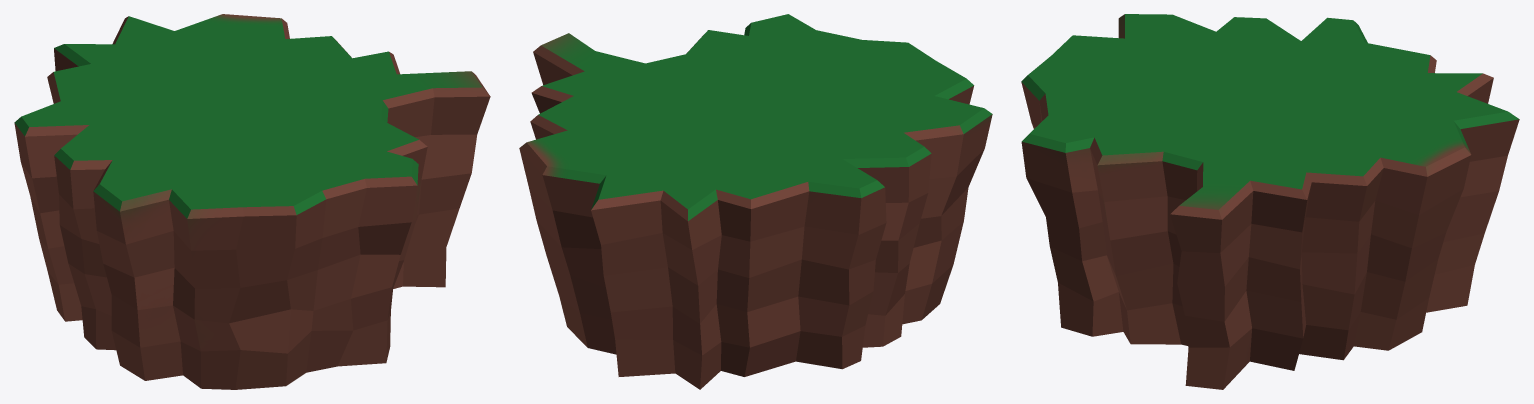
File: Clif_1.fbx
3 renders of one model, left to right at view 1: azimuth 30°, elevation 25°; view 2: azimuth 150°, elevation 25°; view 3: azimuth 270°, elevation 25°, orthographic.
Visible parts, largest first — view 1: Plane; view 2: Plane; view 3: Plane.
Part boxes in pixels (x1,y1,x2,y2): Plane: (14,14,490,389); Plane: (519,14,992,389); Plane: (1021,14,1519,389).
Bounding box in the file's own units: 2689 × 1238 × 2810.
